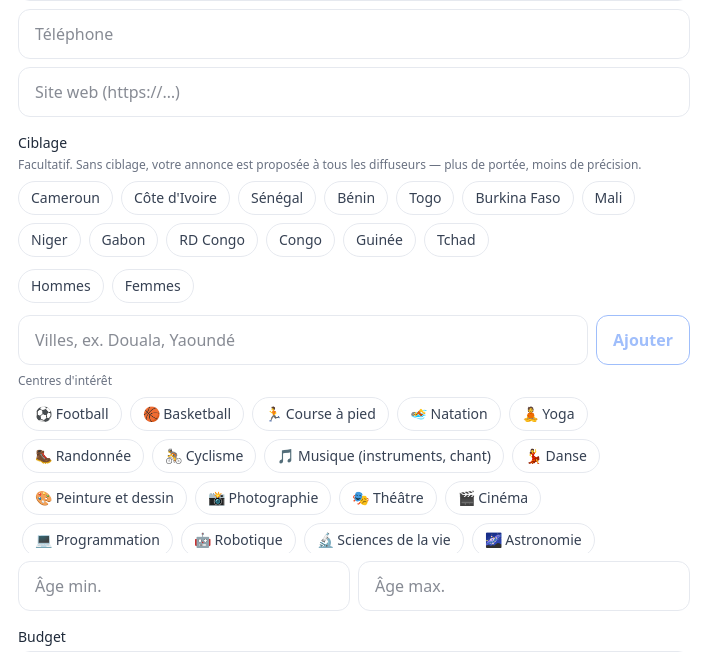
Test case: targeting several cities › a comma makes a chip, and "Ajouter" adds the city still in the field
(page scrolled)
In the field with placeholder "Villes, ex. Douala, Yaoundé": (303, 340) [18,315,588,365], type "Douala, Kribi"
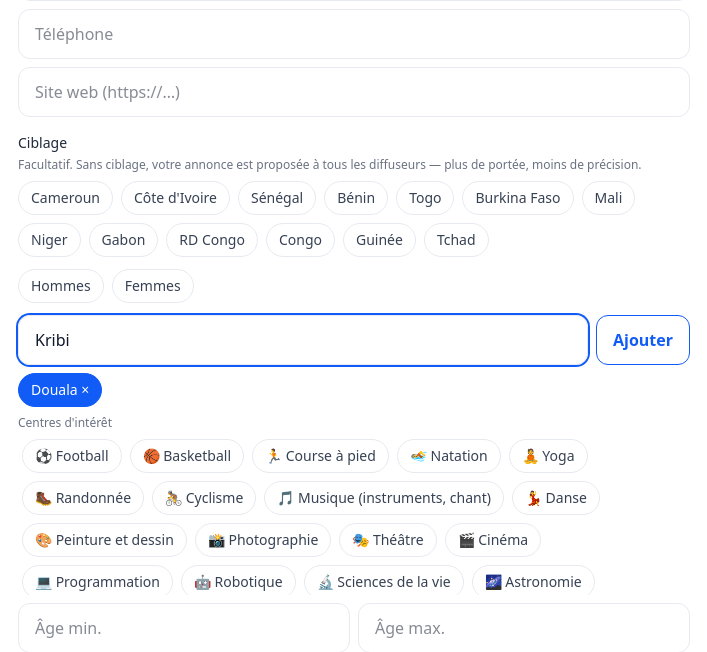
Now the button "Douala ×" is shown, box [18,373,102,407]
Now the field with placeholder "Villes, ex. Douala, Yaoundé" holds "Kribi", box [18,315,588,365]
Click the button "Ajouter": (643, 340) [596,315,690,365]
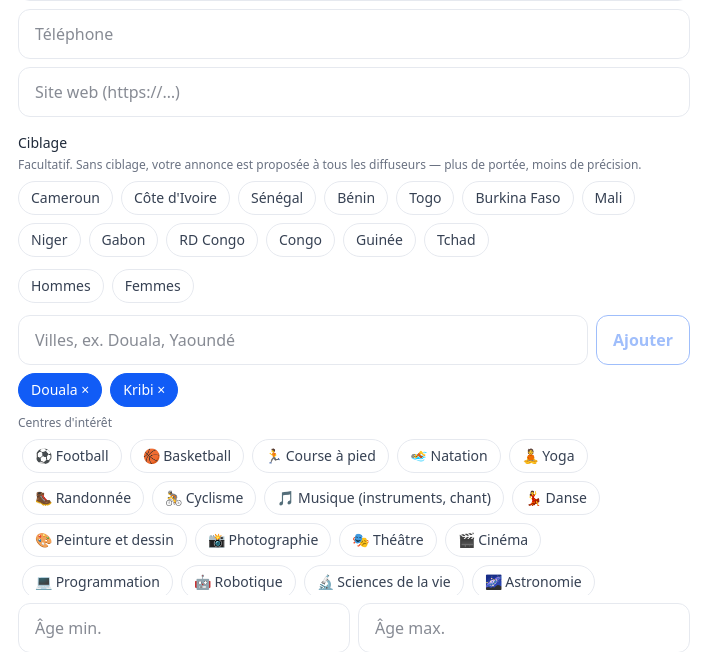
Now the button "Kribi ×" is shown, box [110,373,178,407]
Now the field with placeholder "Villes, ex. Douala, Yaoundé" is empty, box [18,315,588,365]
